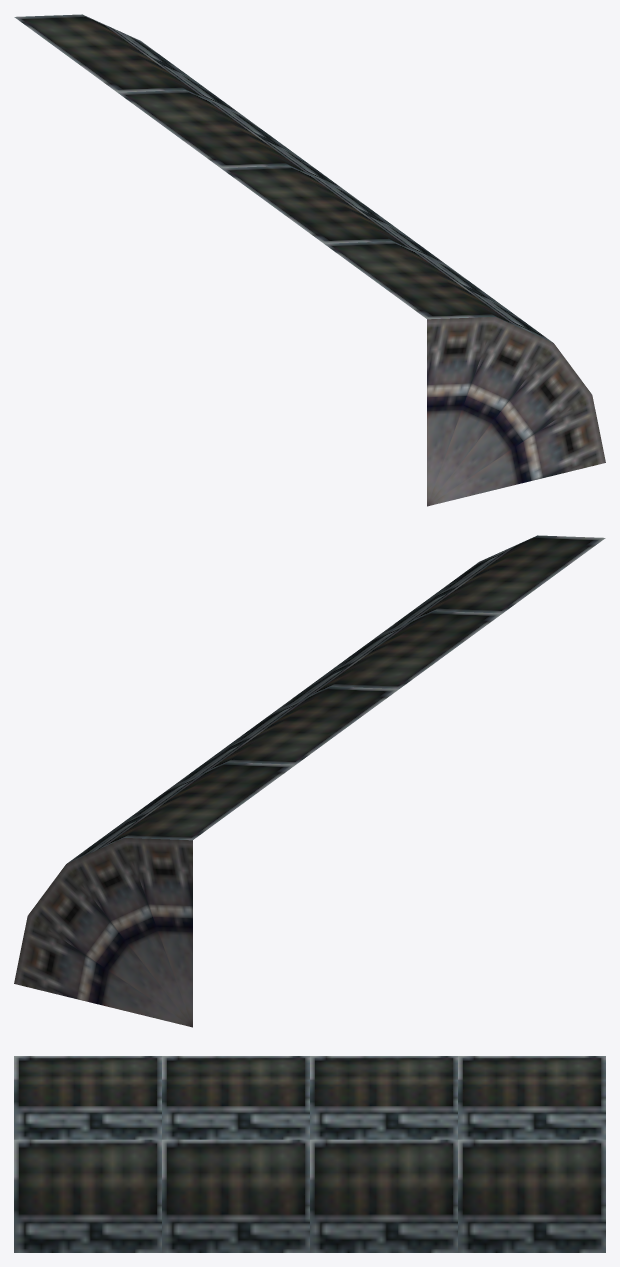
Rendered from prop-068.glb.
The picture shows the model from 3 angles, top to bottom: view 1: azimuth 30°, elevation 25°; view 2: azimuth 150°, elevation 25°; view 3: azimuth 270°, elevation 25°; orthographic projection. The views are drawn at different scales.
Parts seen in each view (by area): view 1: root; view 2: root; view 3: root.
Boxes of the visible parts, x1,y1,x2,y2 form: root: [14, 14, 605, 506]; root: [14, 535, 605, 1027]; root: [14, 1056, 605, 1252].
Size of the model in its own units: 1 by 1 by 4.
1 material, 1 textured.
